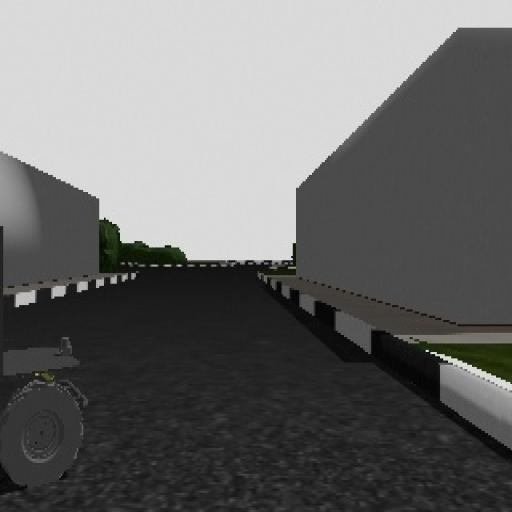huskya200: (0, 211, 104, 512)
